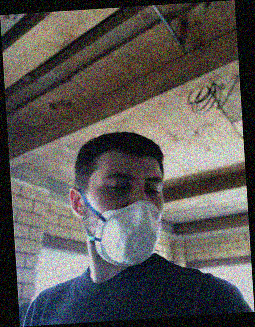with_mask: (89, 166, 166, 265)
